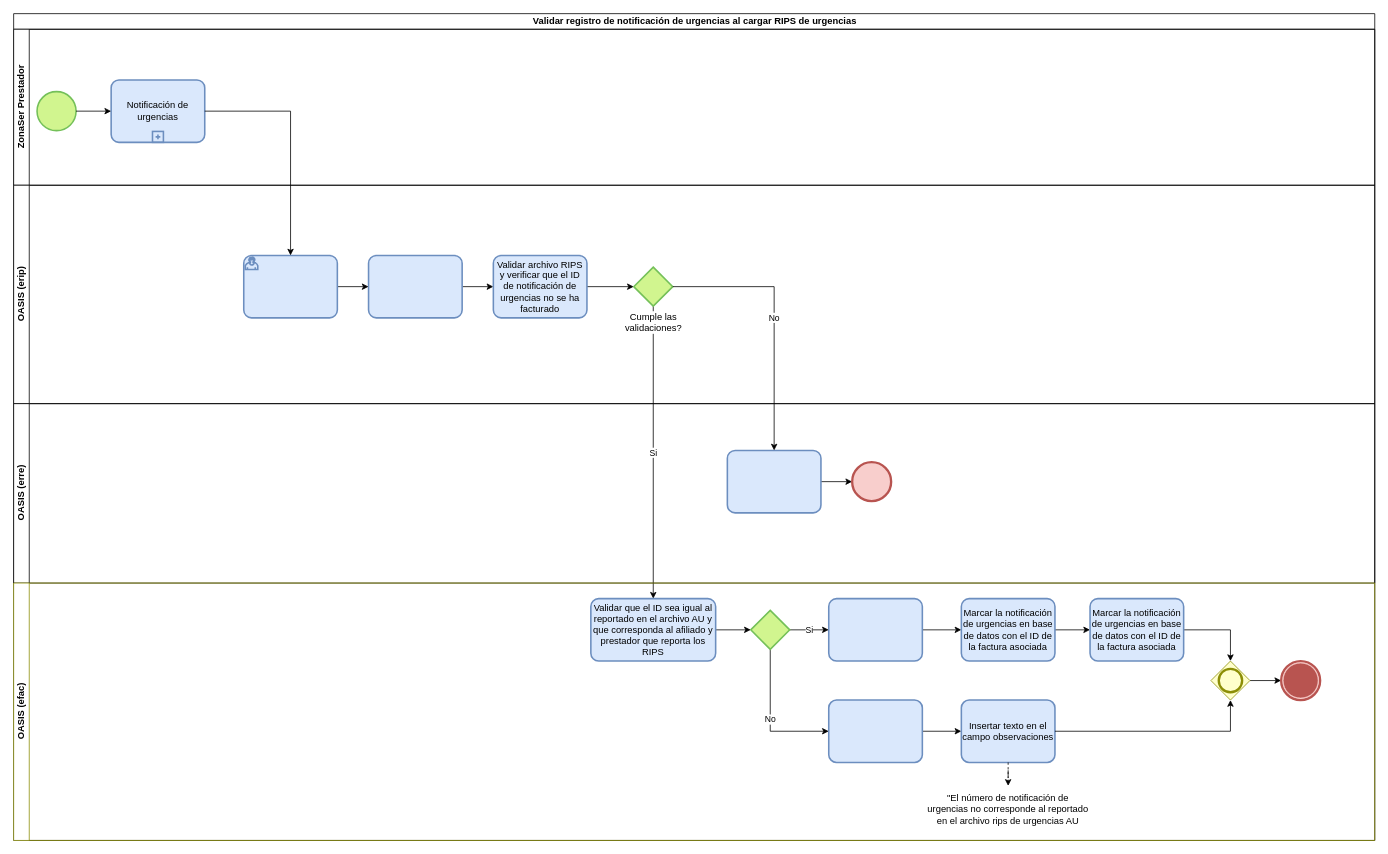
Some shapes in this 1388 by 854 pixel diagram are drawn without their labels. The centre of each missing label's shape, as x and y in pixels:
"Cargar archivos RIPS" belongs at (x=415, y=286).
"Cargar facturas en efac en estado ACTIVO" belongs at (x=875, y=629).
"Cargar facturas en efac en estado DEVUELTO" belongs at (x=875, y=731).
"Cumple con la validación" belongs at (x=770, y=629).
"Generar informe de errores" belongs at (x=773, y=481).
"Ingresar al aplicativo OASIS modulo erip" belongs at (x=290, y=286).
